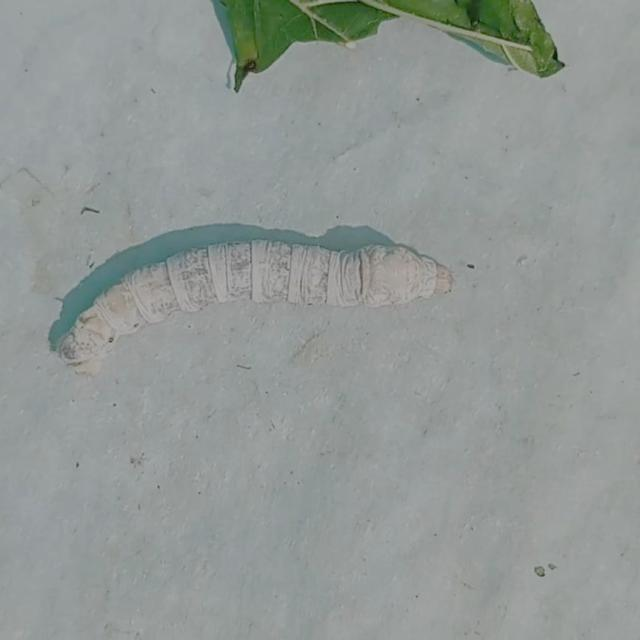Grasserie: (43, 216, 466, 372)
